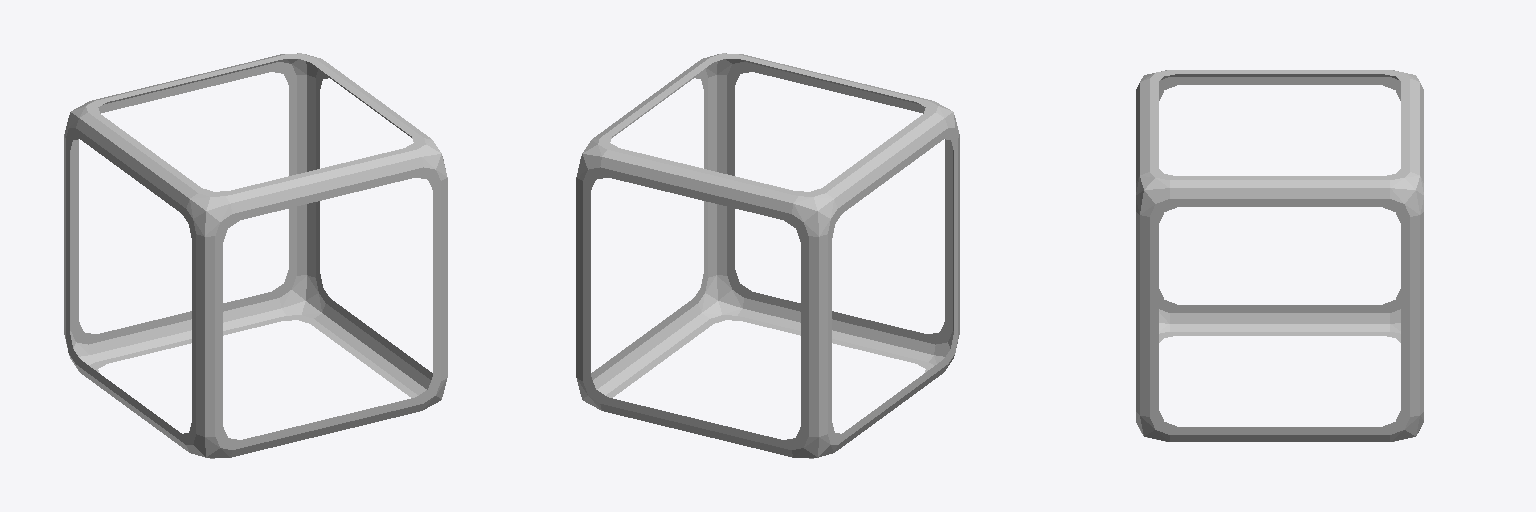
File: Cursor.obj
3 renders of one model, left to right at view 1: azimuth 30°, elevation 25°; view 2: azimuth 150°, elevation 25°; view 3: azimuth 270°, elevation 25°, orthographic.
Visible parts, largest first — view 1: Cube; view 2: Cube; view 3: Cube.
Part boxes in pixels (x1,y1,x2,y2): Cube: (64, 53, 447, 458); Cube: (576, 53, 959, 458); Cube: (1136, 70, 1423, 441).
Bounding box in the file's own units: 2 × 2 × 2.